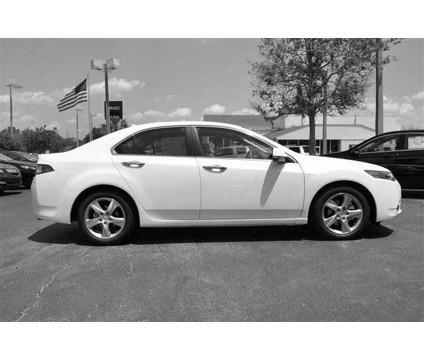car: (31, 119, 404, 248)
